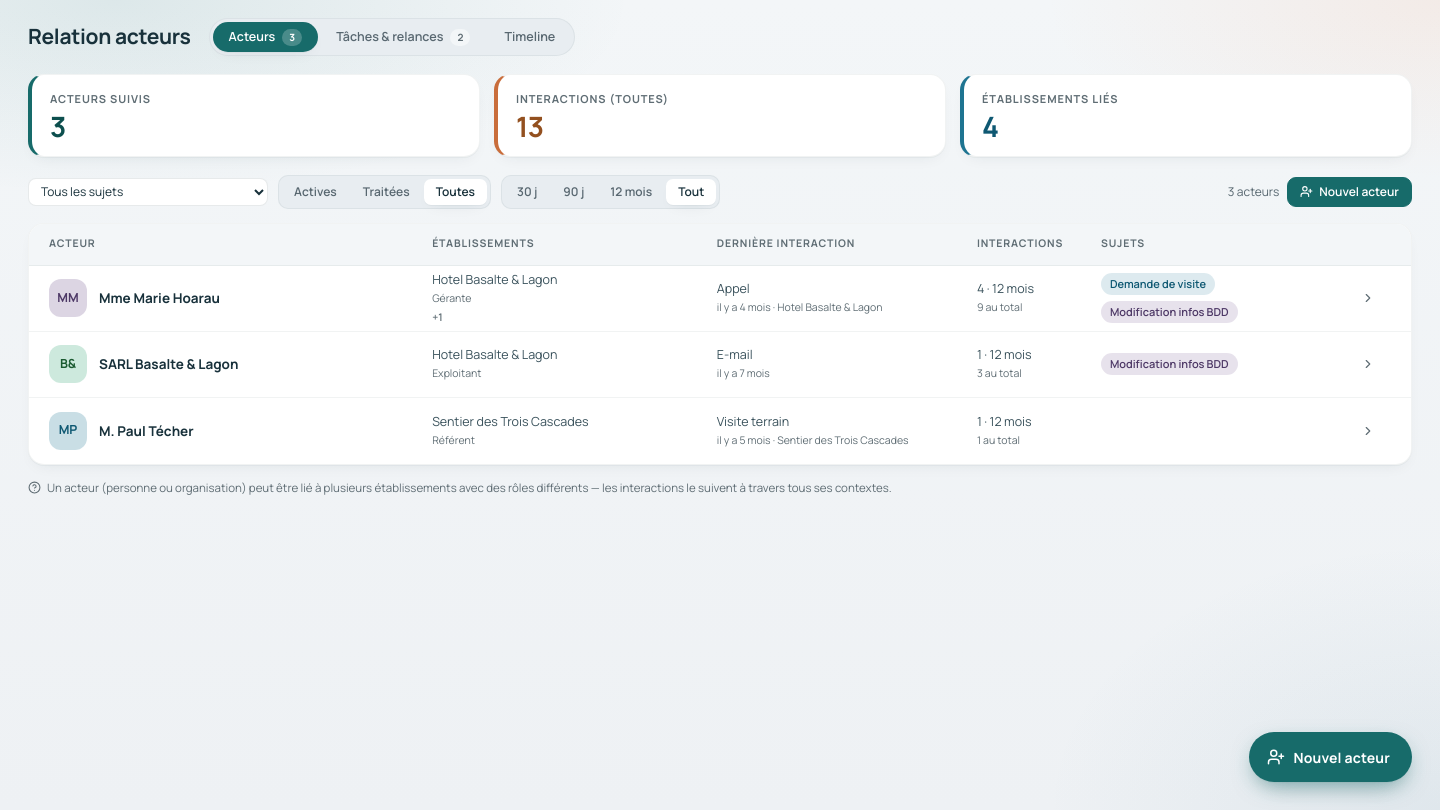
Test: CrmPage (§61 — shell acteur-centré) › affiche une erreur quand l écriture échoue (pas d échec silencieux)
Check: the text "Mme Marie Hoarau" is shown, box [99,288,220,308]
Click the button "Tâches & relances 2".
click(403, 37)  # box [320,22,486,52]
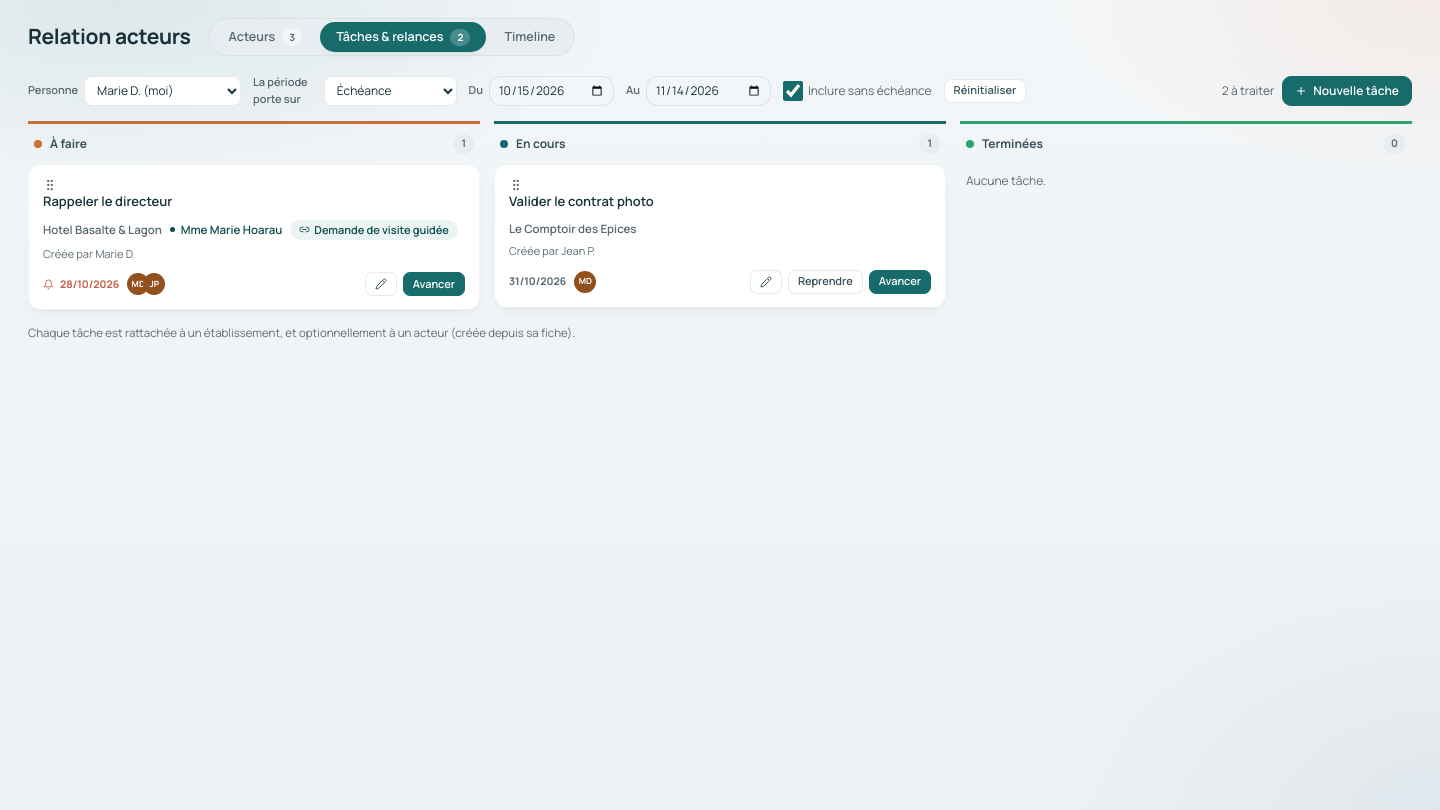
Check: the text "Rappeler le directeur" is shown, box [43,192,172,210]
Click the button with aria-label "Avancer « Rappeler le directeur »".
click(434, 284)  # box [403,272,465,296]
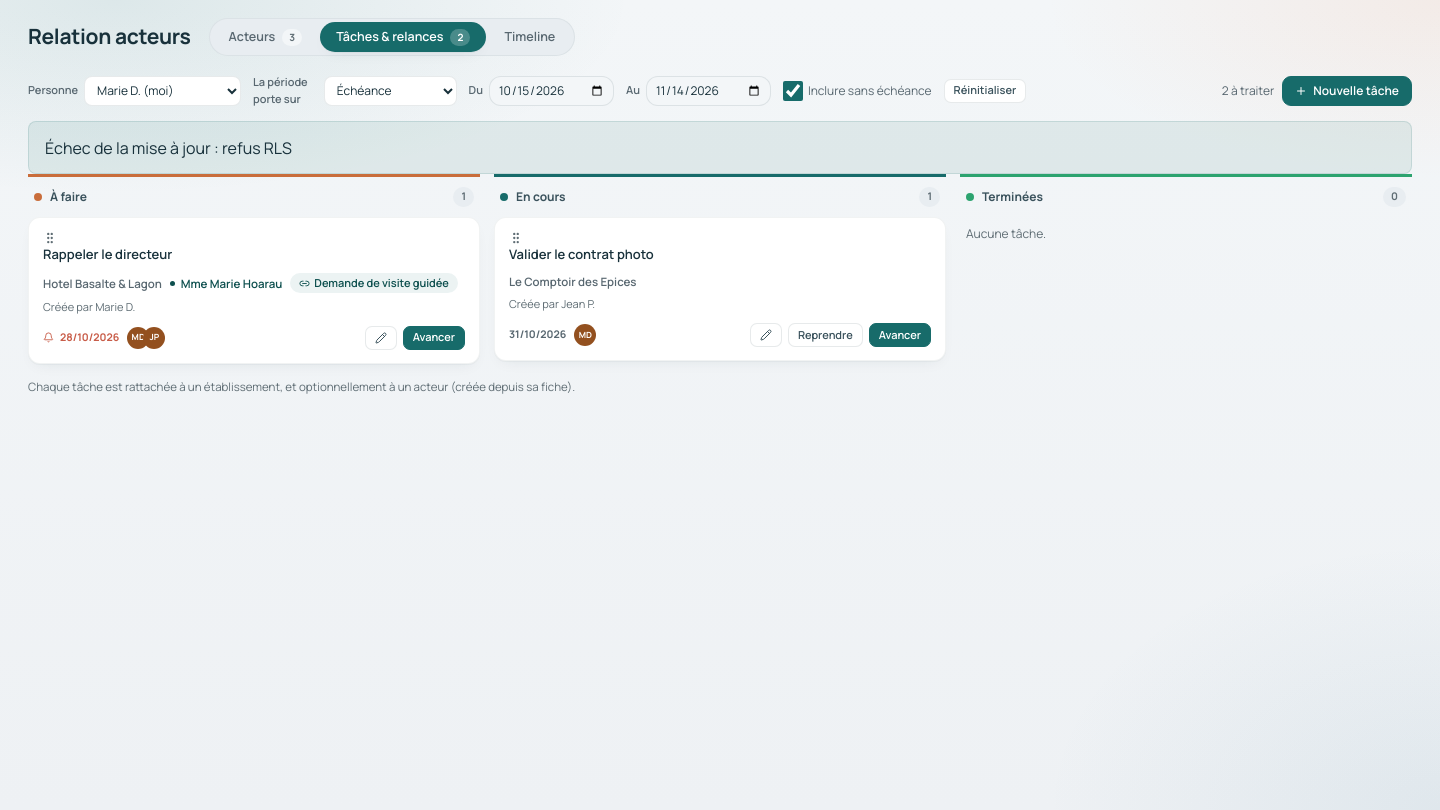
Check: the text "Échec de la mise à jour : refus RLS" is shown, box [28,121,1412,174]
